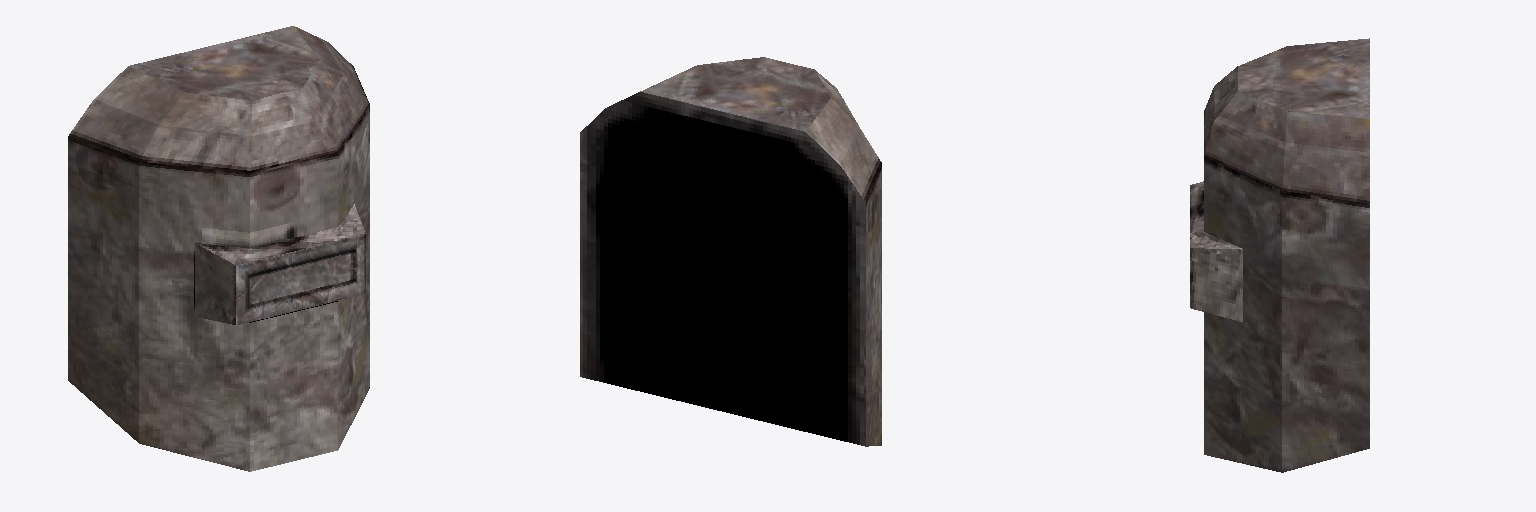
3 views of the same model, side by side, from view 1: azimuth 30°, elevation 25°; view 2: azimuth 150°, elevation 25°; view 3: azimuth 270°, elevation 25° (orthographic).
Visible parts, largest first — view 1: archlight_helmet; view 2: archlight_helmet; view 3: archlight_helmet.
Part boxes in pixels (bbox=[...]): archlight_helmet: bbox=[68, 26, 369, 471]; archlight_helmet: bbox=[580, 57, 881, 446]; archlight_helmet: bbox=[1190, 38, 1369, 472].
Bounding box in the file's own units: 2 × 2.37 × 1.09.
Materials: 1 (1 with a texture image).